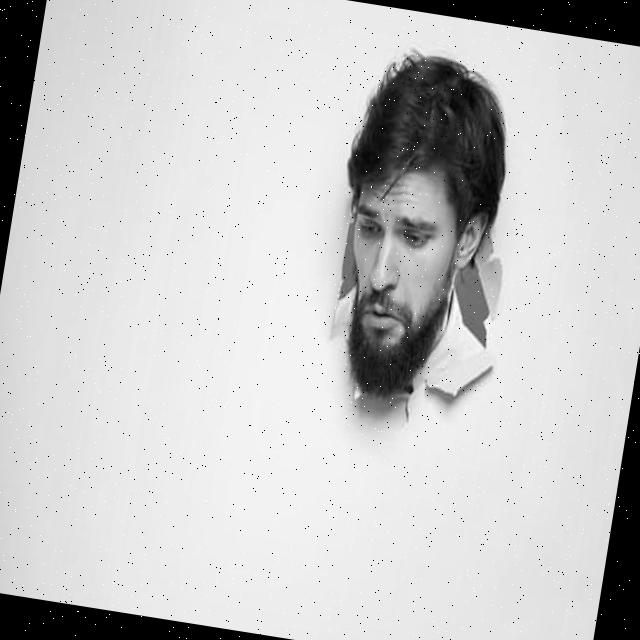Sadness: (332, 155, 452, 368)
